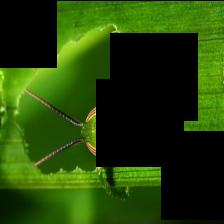green: (0, 1, 224, 195), (25, 47, 143, 165)
